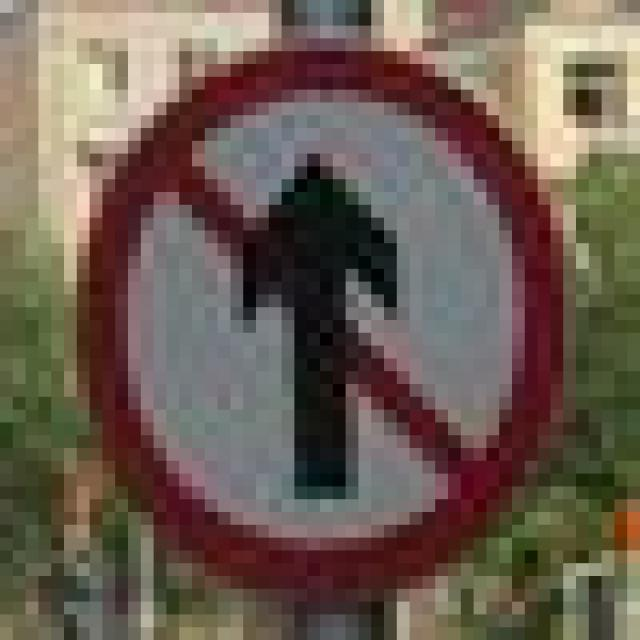STRAIGHT_PROHIBITED: (77, 38, 550, 576)
